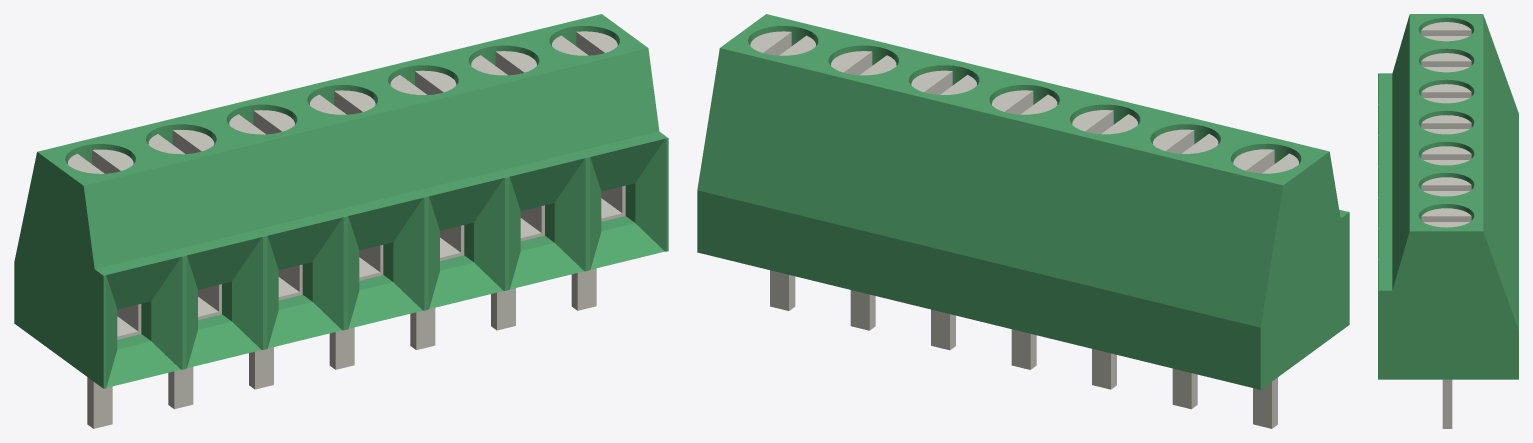
File: kc-terminalblock_phoenix_mkds-1-7-3.81_1x07_p3.81mm_horizontal.glb
3 views of the same model, side by side, from view 1: azimuth 30°, elevation 25°; view 2: azimuth 150°, elevation 25°; view 3: azimuth 270°, elevation 25° (orthographic). The views are drawn at different scales.
Parts seen in each view (by area): view 1: 0.08333333333333333_0.4166666666666667_0.16666666666666666_0, 0.6666666666666666_0.6666666666666666_0.5833333333333334_0.8; view 2: 0.08333333333333333_0.4166666666666667_0.16666666666666666_0, 0.6666666666666666_0.6666666666666666_0.5833333333333334_0.8; view 3: 0.08333333333333333_0.4166666666666667_0.16666666666666666_0, 0.6666666666666666_0.6666666666666666_0.5833333333333334_0.8.
Boxes of the visible parts, x1,y1,x2,y2 form: 0.08333333333333333_0.4166666666666667_0.16666666666666666_0: [14, 14, 668, 388]; 0.6666666666666666_0.6666666666666666_0.5833333333333334_0.8: [68, 31, 625, 428]; 0.08333333333333333_0.4166666666666667_0.16666666666666666_0: [697, 14, 1349, 389]; 0.6666666666666666_0.6666666666666666_0.5833333333333334_0.8: [750, 31, 1298, 428]; 0.08333333333333333_0.4166666666666667_0.16666666666666666_0: [1378, 14, 1518, 379]; 0.6666666666666666_0.6666666666666666_0.5833333333333334_0.8: [1421, 22, 1471, 428].
Bounding box in the file's own units: 2.67 × 1.2 × 0.73.
